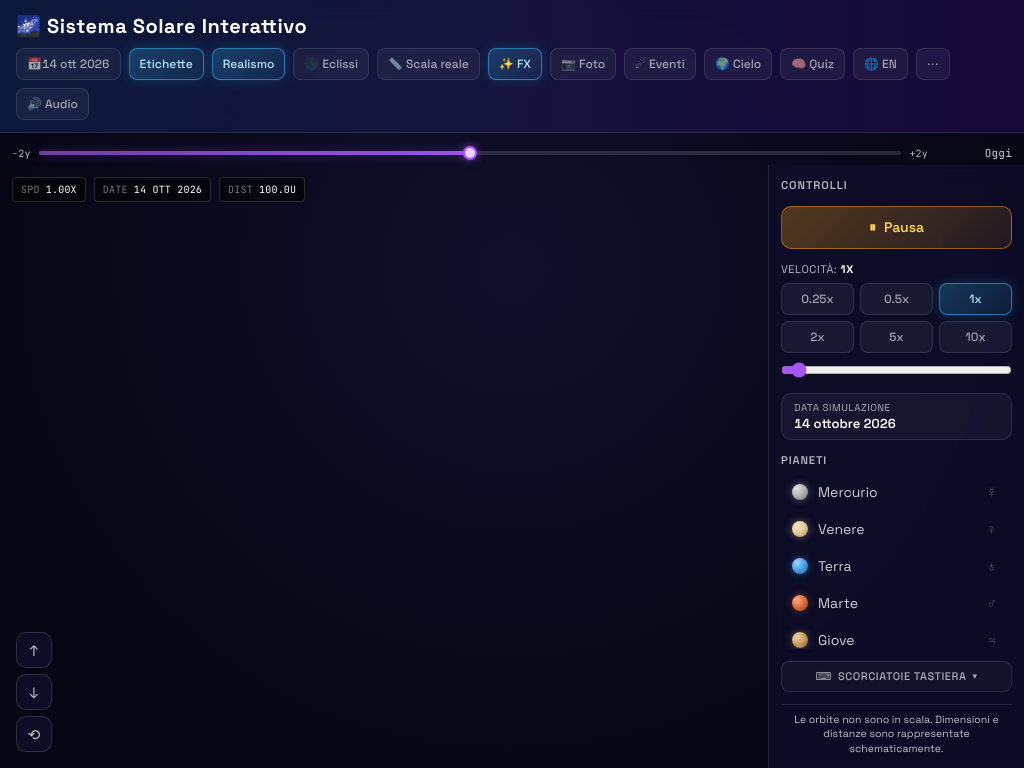
Test case: App — interazioni › apre il pannello informazioni al click su un pianeta
The image size is (1024, 768).
Click the button "Terra ♁" at (894, 566), box [781,549,1008,584]
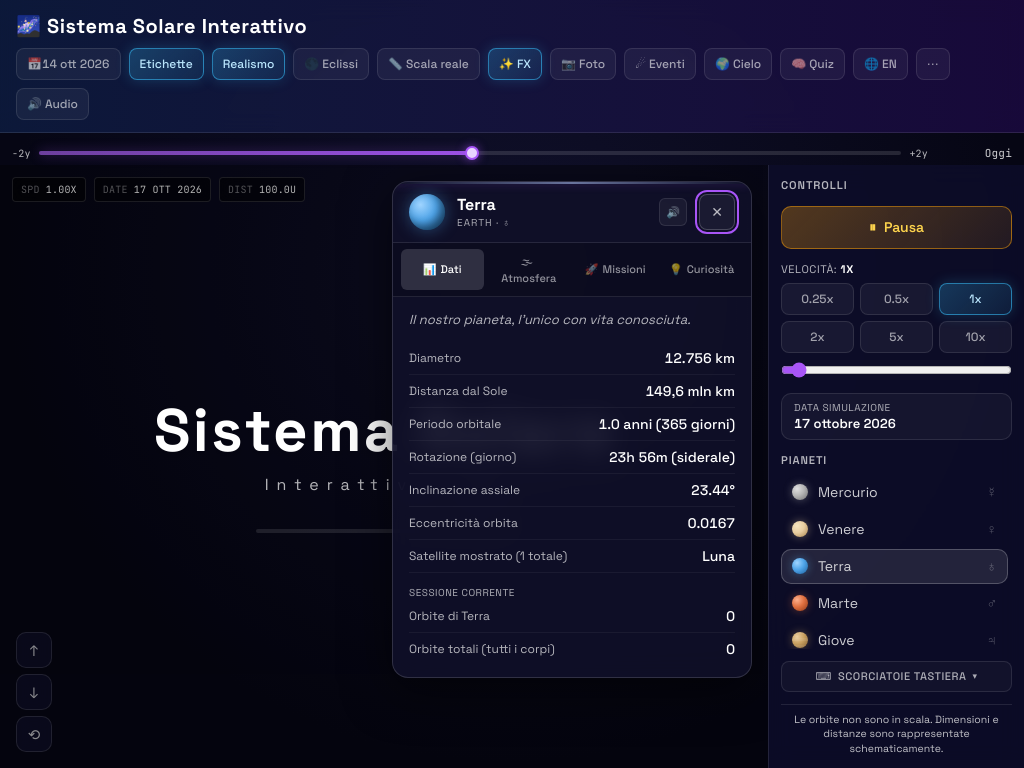
Expected: the dialog named "Informazioni su Terra" is shown, [392,181,752,678]
Expected: the dialog named "Informazioni su Terra" shows "Terra", [457,194,496,214]
